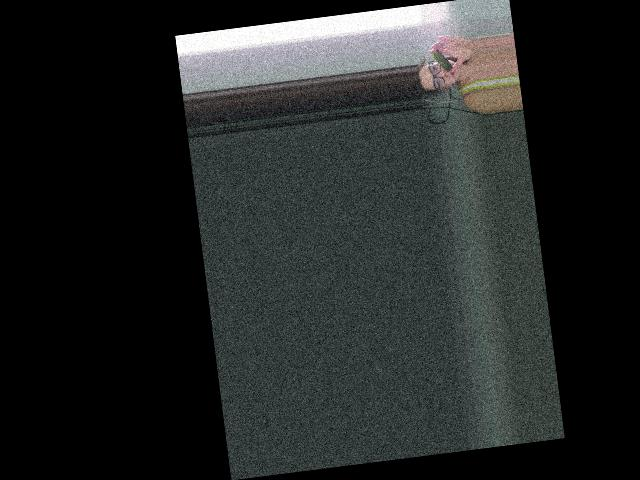cucumber: (431, 49, 452, 73)
